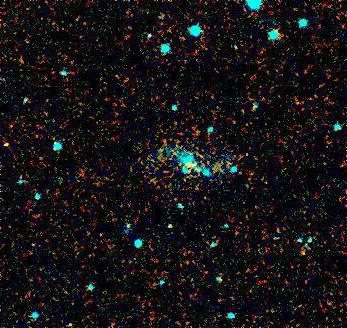star: (0, 132, 24, 162)
